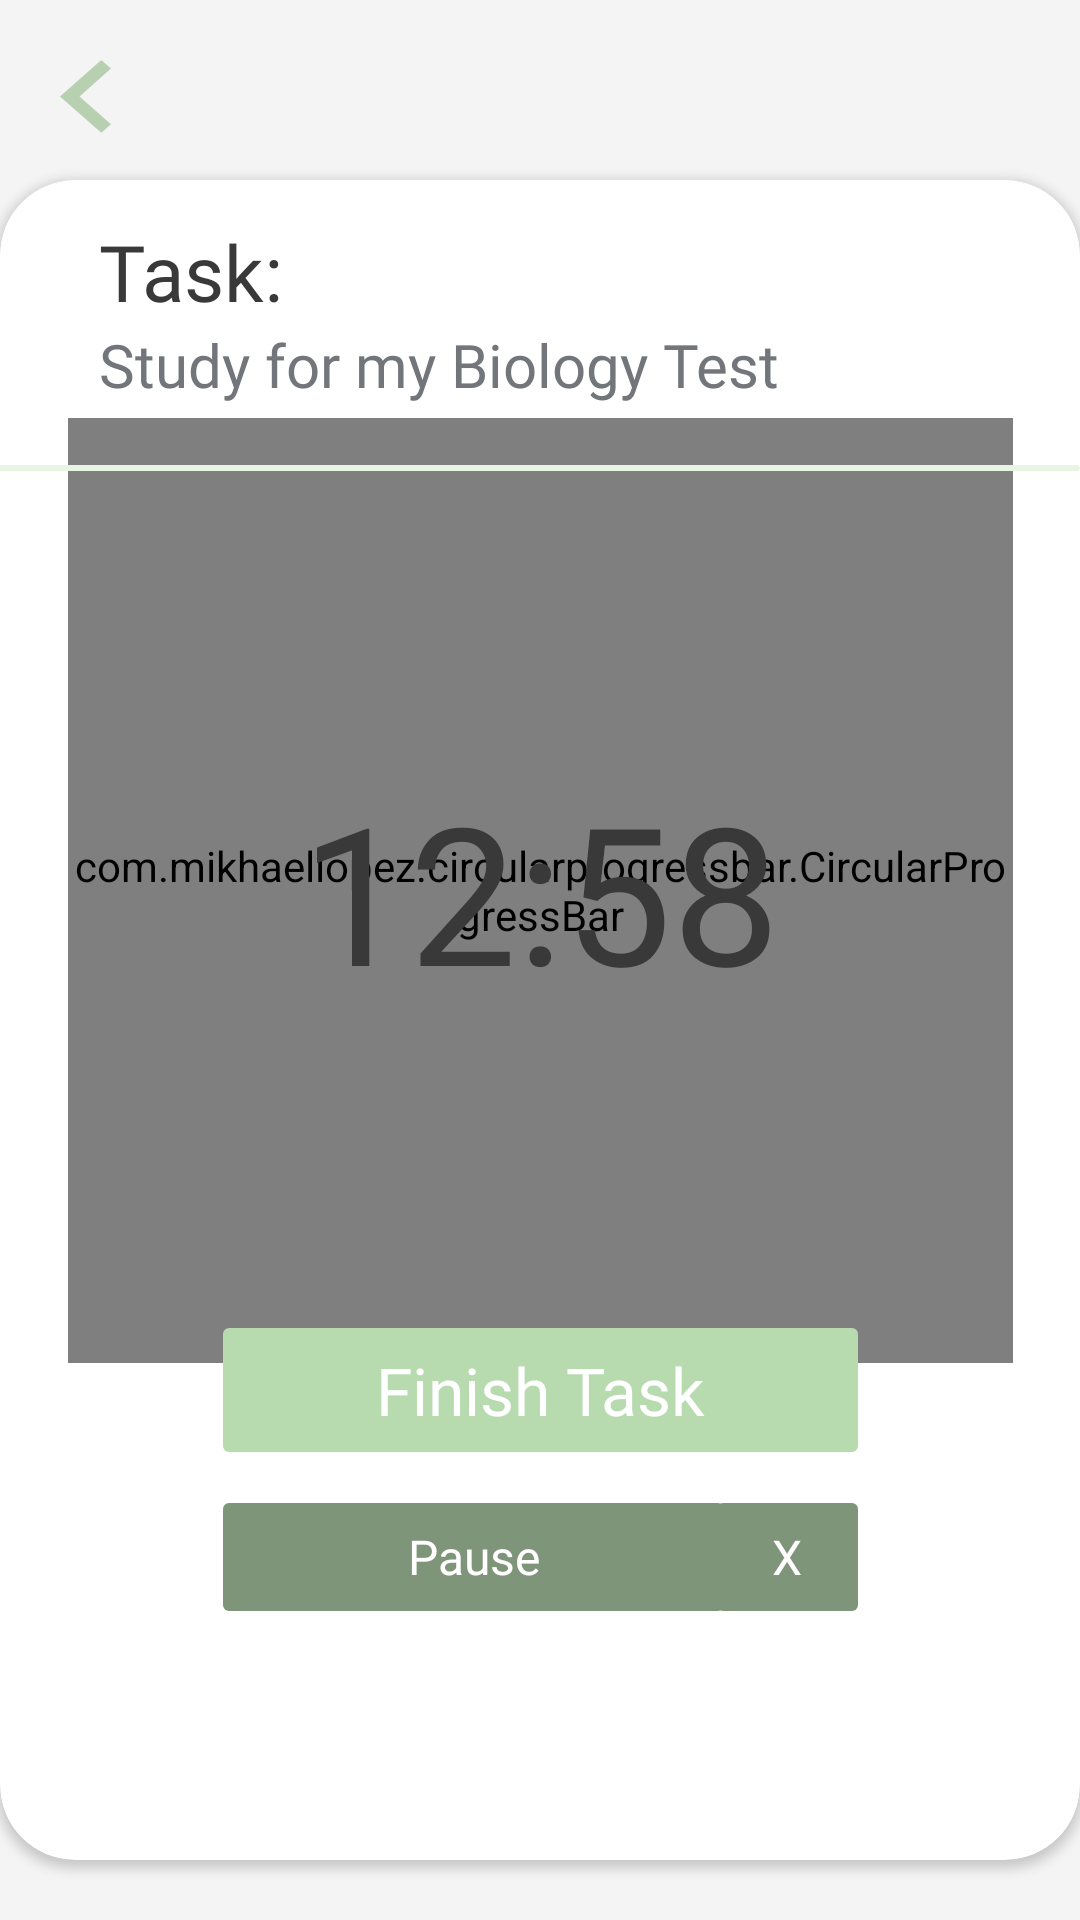

Where icons sit on this 1080 × 1920 app screen, as (x1, y1, x2, y2):
back: (60, 60, 111, 133)
